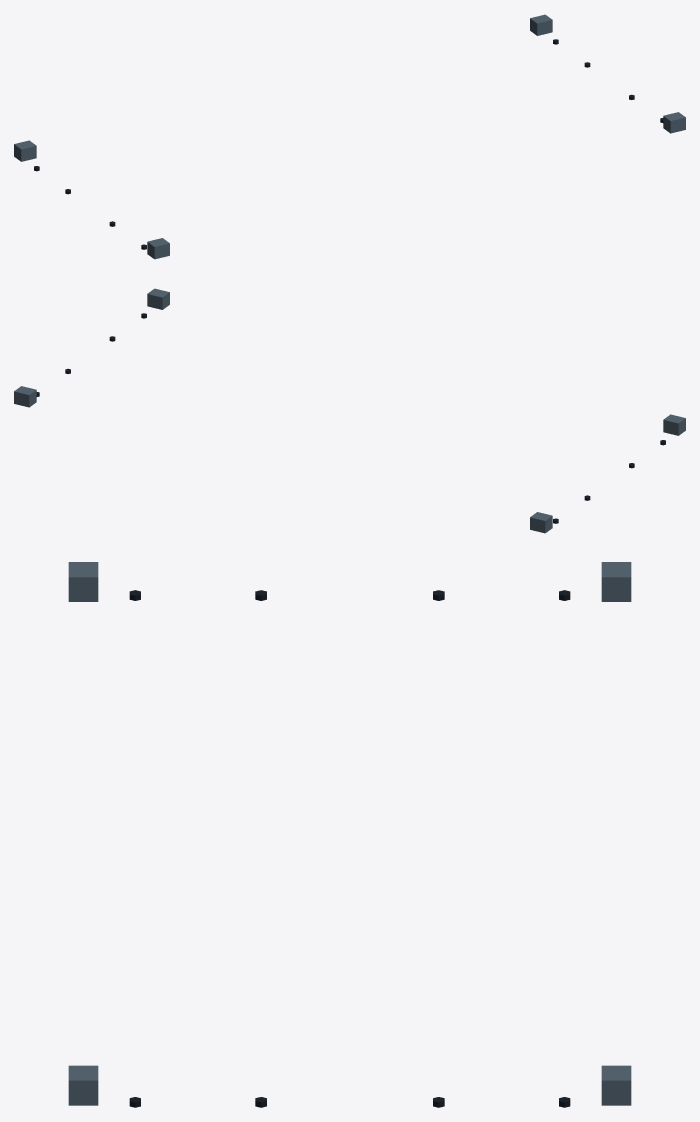
File: P16-04_detail.obj
3 views of the same model, one above another, from view 1: azimuth 30°, elevation 25°; view 2: azimuth 150°, elevation 25°; view 3: azimuth 270°, elevation 25° (orthographic). The views are drawn at different scales.
Visible parts, largest first — view 1: P16-04_STATIC_Steel_DETAIL_CornerGusset_L_N, P16-04_STATIC_Steel_DETAIL_CornerGusset_R_P, P16-04_STATIC_Steel_DETAIL_CornerGusset_L_P, P16-04_STATIC_Steel_DETAIL_CornerGusset_R_N; view 2: P16-04_STATIC_Steel_DETAIL_CornerGusset_L_P, P16-04_STATIC_Steel_DETAIL_CornerGusset_R_N, P16-04_STATIC_Steel_DETAIL_CornerGusset_L_N, P16-04_STATIC_Steel_DETAIL_CornerGusset_R_P; view 3: P16-04_STATIC_Steel_DETAIL_CornerGusset_R_N, P16-04_STATIC_Steel_DETAIL_CornerGusset_R_P, P16-04_STATIC_Steel_DETAIL_CornerGusset_L_N, P16-04_STATIC_Steel_DETAIL_CornerGusset_L_P.
Part boxes in pixels (x1,y1,x2,y2): P16-04_STATIC_Steel_DETAIL_CornerGusset_L_N: (14, 140, 36, 161); P16-04_STATIC_Steel_DETAIL_CornerGusset_R_P: (663, 112, 685, 133); P16-04_STATIC_Steel_DETAIL_CornerGusset_L_P: (147, 238, 169, 259); P16-04_STATIC_Steel_DETAIL_CornerGusset_R_N: (530, 14, 552, 35); P16-04_STATIC_Steel_DETAIL_CornerGusset_L_P: (663, 414, 685, 435); P16-04_STATIC_Steel_DETAIL_CornerGusset_R_N: (14, 386, 36, 407); P16-04_STATIC_Steel_DETAIL_CornerGusset_L_N: (530, 512, 552, 533); P16-04_STATIC_Steel_DETAIL_CornerGusset_R_P: (147, 288, 169, 309); P16-04_STATIC_Steel_DETAIL_CornerGusset_R_N: (601, 1065, 631, 1105); P16-04_STATIC_Steel_DETAIL_CornerGusset_R_P: (68, 1065, 98, 1105); P16-04_STATIC_Steel_DETAIL_CornerGusset_L_N: (601, 562, 631, 601); P16-04_STATIC_Steel_DETAIL_CornerGusset_L_P: (68, 562, 98, 601).
Bounding box in the file's own units: 1.66 × 0.045 × 0.76.
